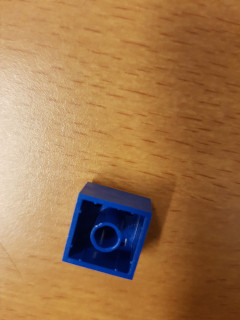2x2 blue: (60, 180, 156, 284)
